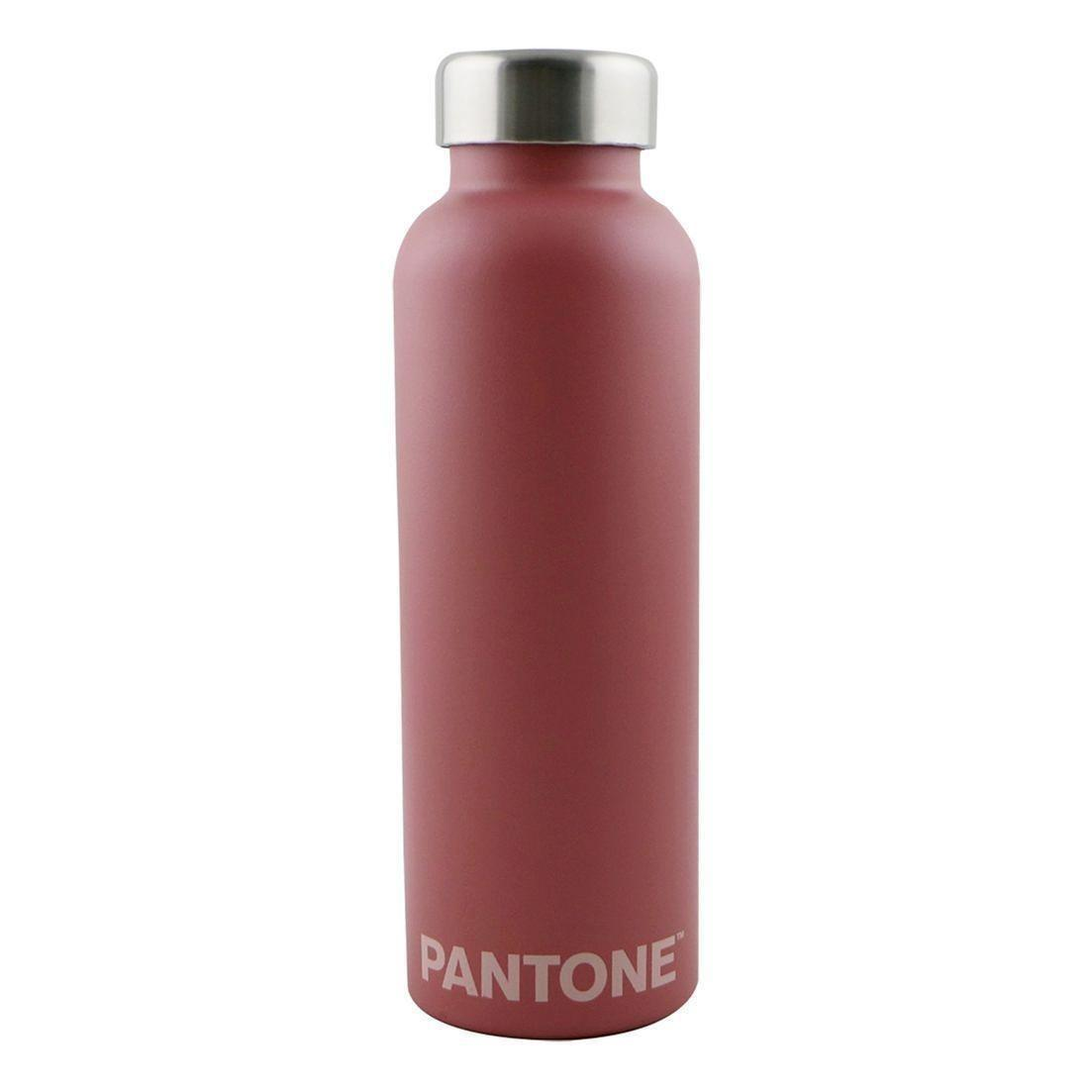gym bottle: (386, 41, 713, 1046)
